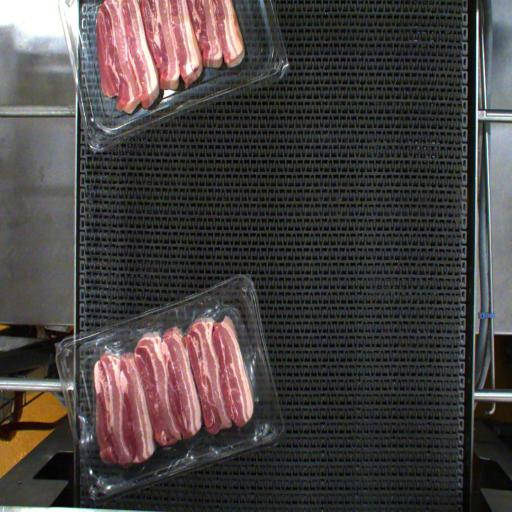unsealed: (72, 337, 278, 474)
